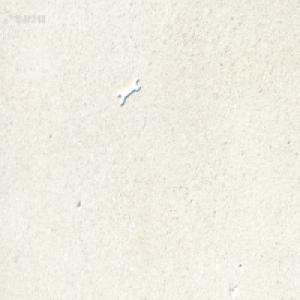Wrench: (117, 77, 140, 105)
